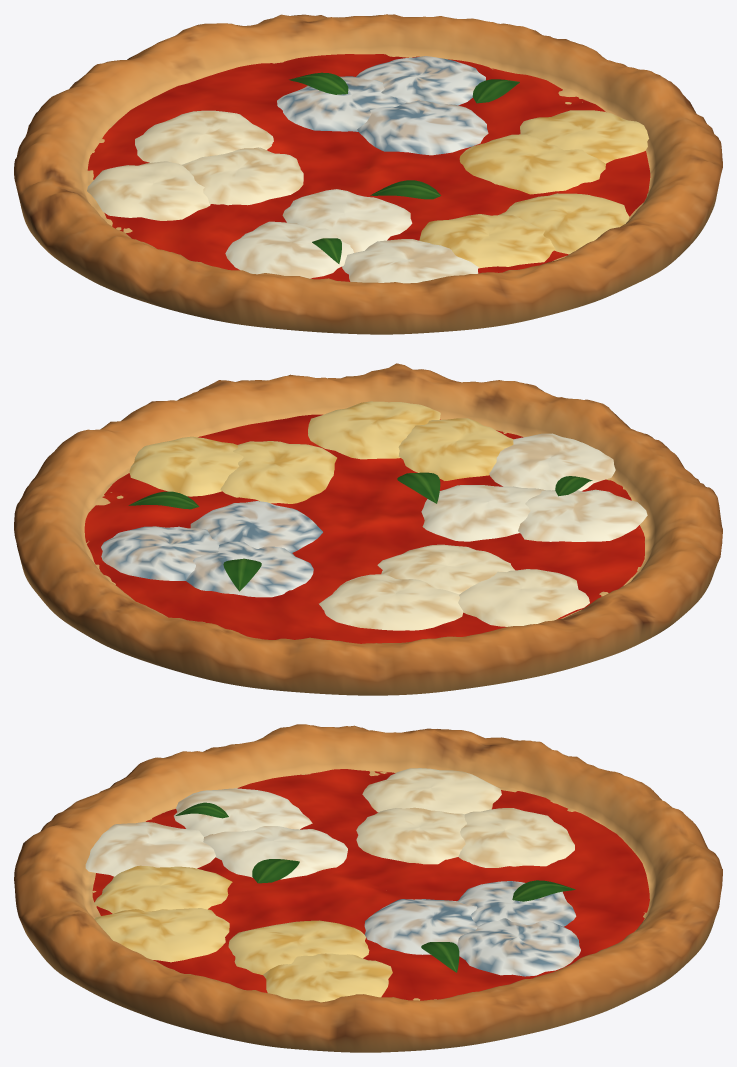
File: pizza_formaggi.glb
3 renders of one model, top to bottom at view 1: azimuth 30°, elevation 25°; view 2: azimuth 150°, elevation 25°; view 3: azimuth 270°, elevation 25°, orthographic.
Parts seen in each view (by area): view 1: dough, sauce, q1_2, q3_1, q2_8, q1_12, q3_10, q3_7, q0_7, q0_1, q1_8, q1_3 (+6 smaller); view 2: dough, sauce, q3_7, q1_2, q3_1, q0_7, q1_8, q1_12, q0_1, q0_9, q1_3, q2_10 (+6 smaller); view 3: dough, sauce, q3_7, q2_10, q1_8, q3_10, q0_1, q0_9, q1_12, q1_2, q1_3, q3_1 (+6 smaller).
Boxes of the visible parts, x1,y1,x2,y2 form: dough: [14, 14, 722, 334]; sauce: [87, 54, 650, 281]; q1_2: [459, 134, 605, 194]; q3_1: [87, 161, 210, 220]; q2_8: [357, 100, 488, 155]; q1_12: [419, 214, 555, 268]; q3_10: [182, 147, 303, 205]; q3_7: [135, 110, 273, 164]; q0_7: [225, 221, 353, 278]; q0_1: [282, 189, 412, 252]; q1_8: [499, 193, 629, 254]; q1_3: [520, 110, 648, 163]; dough: [14, 363, 722, 695]; sauce: [84, 414, 644, 643]; q3_7: [319, 574, 463, 630]; q1_2: [220, 441, 336, 503]; q3_1: [458, 569, 589, 626]; q0_7: [518, 489, 647, 541]; q1_8: [308, 401, 440, 459]; q1_12: [398, 418, 513, 480]; q0_1: [421, 485, 544, 541]; q0_9: [489, 433, 615, 490]; q1_3: [129, 436, 243, 496]; q2_10: [101, 526, 220, 580]; dough: [14, 724, 722, 1052]; sauce: [92, 769, 649, 1000]; q3_7: [458, 808, 574, 867]; q2_10: [457, 918, 580, 976]; q1_8: [94, 908, 229, 962]; q3_10: [356, 807, 466, 864]; q0_1: [203, 826, 347, 879]; q0_9: [85, 821, 215, 876]; q1_12: [94, 865, 232, 913]; q1_2: [228, 920, 369, 974]; q1_3: [263, 953, 392, 1002]; q3_1: [362, 768, 501, 814].
Size of the model in its own units: 2.02 by 0.1348 by 2.
